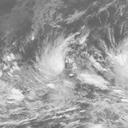cyclone: (28, 37, 92, 99), (109, 37, 127, 89)
